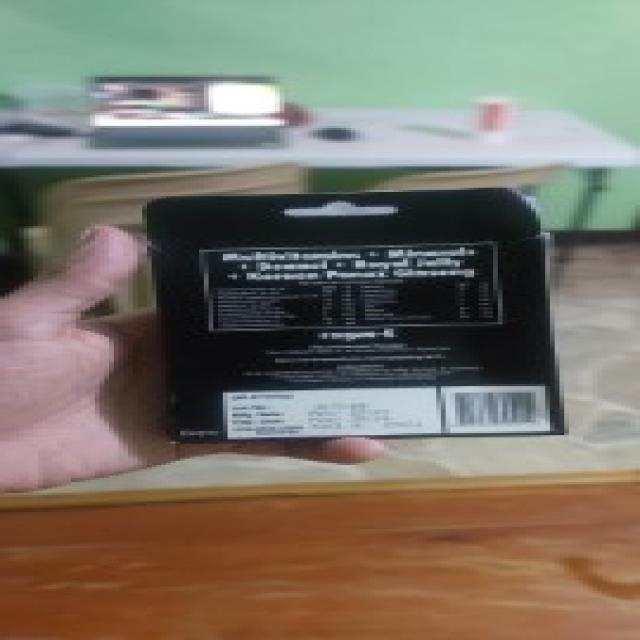Cacat: (136, 188, 576, 448)
